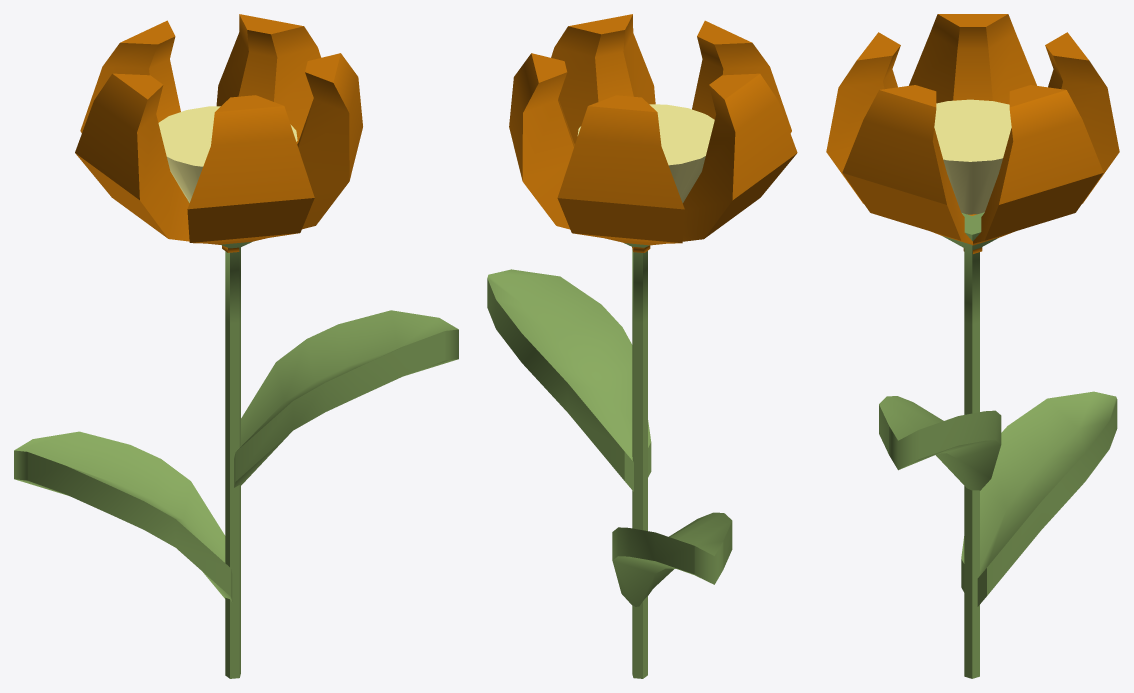
File: Marigold.glb
3 views of the same model, side by side, from view 1: azimuth 30°, elevation 25°; view 2: azimuth 150°, elevation 25°; view 3: azimuth 270°, elevation 25° (orthographic).
Parts seen in each view (by area): view 1: pPipe12, pCube6, pCube7, pPipe13, pCylinder1; view 2: pPipe12, pCube6, pCube7, pPipe13, pCylinder1; view 3: pPipe12, pCube7, pCube6, pCylinder1, pPipe13.
Boxes of the visible parts, box(x1,y1,x2,y2) form: pPipe12: box(75, 14, 362, 252); pCube6: box(234, 310, 458, 487); pCube7: box(14, 431, 232, 601); pPipe13: box(188, 201, 252, 678); pCylinder1: box(158, 106, 297, 202); pPipe12: box(509, 14, 797, 252); pCube6: box(487, 269, 651, 491); pCube7: box(612, 512, 732, 606); pPipe13: box(624, 243, 649, 678); pCylinder1: box(577, 104, 714, 203); pPipe12: box(826, 14, 1119, 253); pCube7: box(961, 391, 1117, 606); pCube6: box(879, 396, 1001, 490); pCylinder1: box(934, 99, 1011, 214); pPipe13: box(941, 212, 998, 678).
Size of the model in its own units: 1.6 by 2.8 by 1.22.
